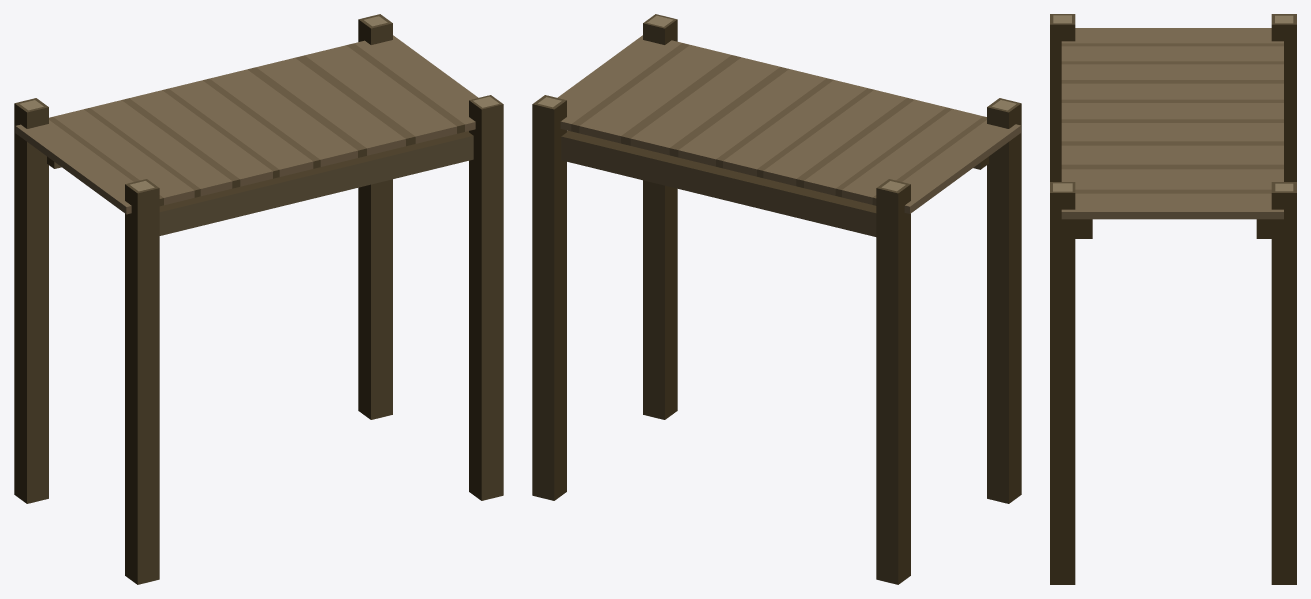
File: Walkway.gltf
3 renders of one model, left to right at view 1: azimuth 30°, elevation 25°; view 2: azimuth 150°, elevation 25°; view 3: azimuth 270°, elevation 25°, orthographic.
Parts seen in each view (by area): view 1: SF_Prop_Walkway_01; view 2: SF_Prop_Walkway_01; view 3: SF_Prop_Walkway_01.
Part boxes in pixels (x1,y1,x2,y2): SF_Prop_Walkway_01: (14, 14, 503, 584); SF_Prop_Walkway_01: (532, 14, 1021, 584); SF_Prop_Walkway_01: (1050, 14, 1296, 584).
Bounding box in the file's own units: 0.0602 × 0.0599 × 0.0341.
1 material, 1 textured.
